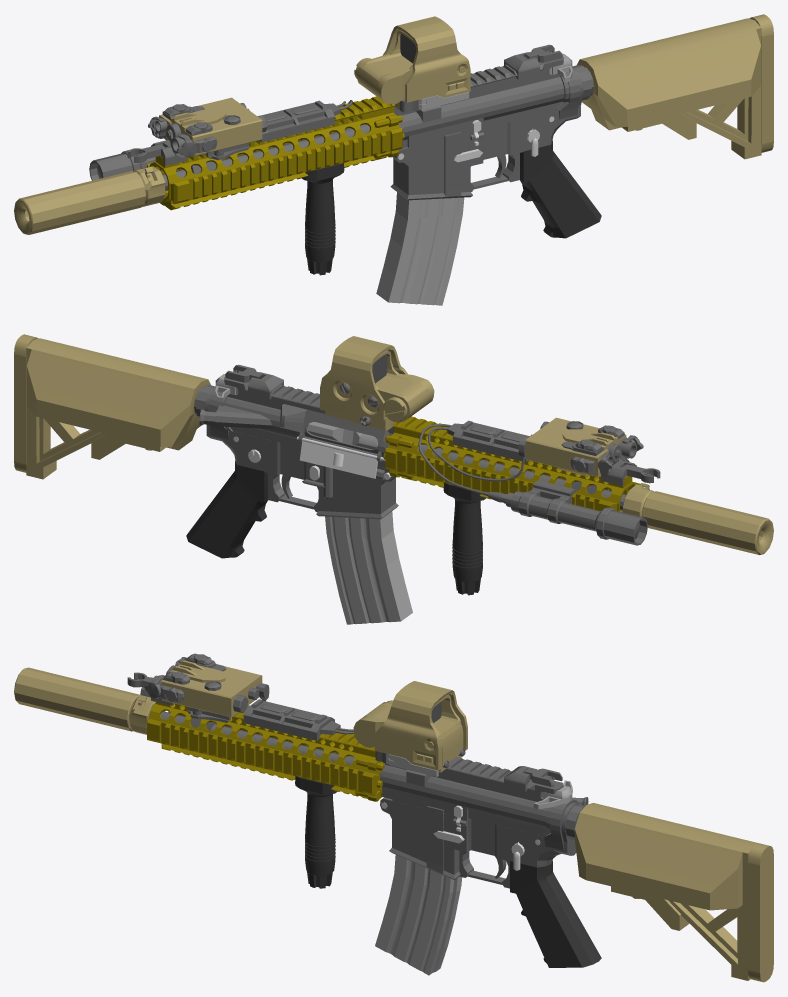
Rendered from Mk18LowPoly.fbx.
3 views of the same model, one above another, from view 1: azimuth 30°, elevation 25°; view 2: azimuth 150°, elevation 25°; view 3: azimuth 330°, elevation 25° (orthographic).
Parts seen in each view (by area): view 1: stock1, handguard, lower, upper, magazine, suppressor1, grip, roof, vert_grip, DBAL_A2_laserModule, mainbody, switch_module (+6 smaller); view 2: stock1, handguard, magazine, lower, upper, suppressor1, flashlight, grip, roof, vert_grip, mainbody, DBAL_A2_laserModule (+9 smaller); view 3: stock1, handguard, lower, upper, magazine, grip, roof, suppressor1, stock_pad, vert_grip, DBAL_A2_laserModule, switch_module (+5 smaller).
Boxes of the visible parts, box(x1,y1,x2,y2) form: stock1: box(577, 18, 761, 159); handguard: box(147, 96, 404, 210); lower: box(390, 66, 583, 200); upper: box(392, 57, 569, 157); magazine: box(376, 192, 464, 305); suppressor1: box(14, 171, 145, 234); grip: box(520, 140, 601, 238); roof: box(382, 16, 470, 102); vert_grip: box(302, 163, 344, 275); DBAL_A2_laserModule: box(159, 97, 262, 156); mainbody: box(354, 30, 415, 109); switch_module: box(259, 100, 340, 142); stock1: box(26, 338, 210, 479); handguard: box(383, 416, 640, 512); magazine: box(325, 511, 412, 624); lower: box(204, 386, 398, 519); upper: box(199, 377, 393, 467); suppressor1: box(642, 491, 773, 554); flashlight: box(418, 424, 647, 545); grip: box(186, 460, 267, 558); roof: box(320, 336, 408, 420); vert_grip: box(443, 483, 485, 595); mainbody: box(325, 350, 434, 430); DBAL_A2_laserModule: box(525, 417, 626, 477); stock1: box(575, 803, 757, 980); handguard: box(147, 702, 384, 801); lower: box(380, 797, 580, 888); upper: box(380, 757, 588, 837); magazine: box(375, 855, 462, 975); grip: box(510, 861, 601, 967); roof: box(374, 681, 467, 770); suppressor1: box(14, 667, 141, 731); stock_pad: box(748, 843, 773, 982); vert_grip: box(295, 776, 337, 888); DBAL_A2_laserModule: box(161, 660, 262, 717); switch_module: box(243, 699, 340, 740).
Bounding box in the file's own units: 8.9 × 3.17 × 1.12.
